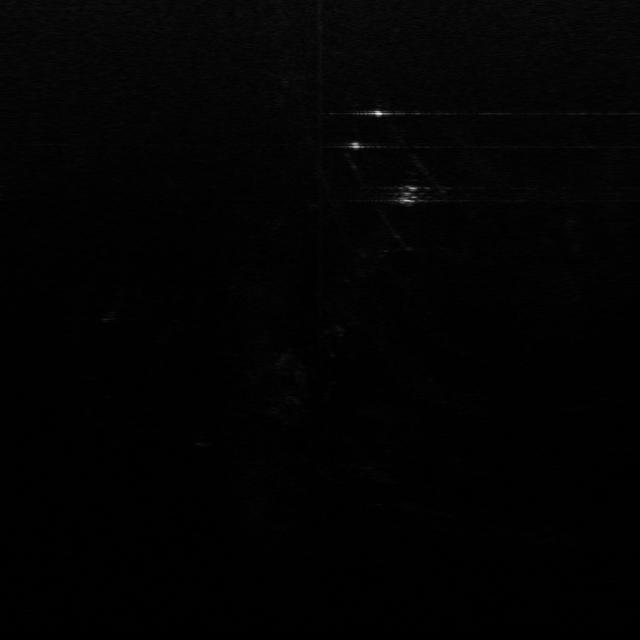rov: (397, 184, 424, 205)
